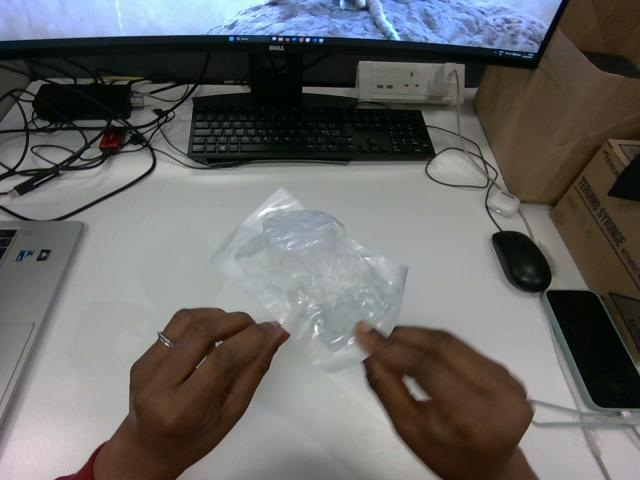gallipot: (214, 189, 407, 370)
